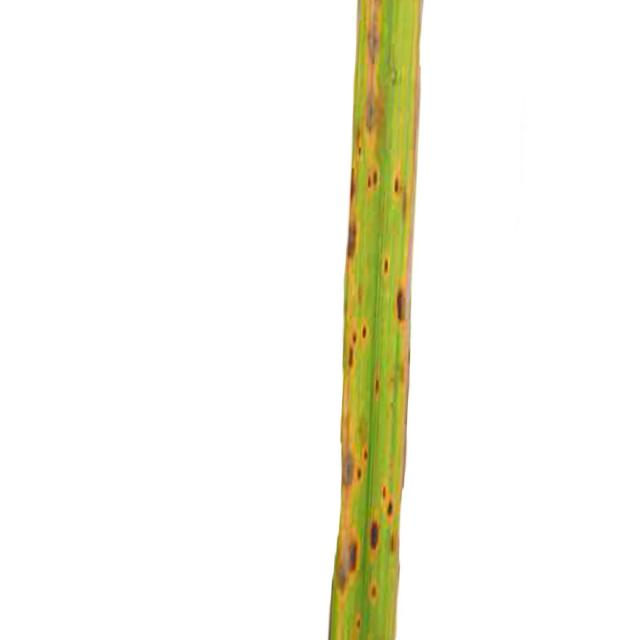Brown_Spot: (382, 485, 402, 528), (341, 444, 355, 485), (346, 221, 356, 259), (396, 289, 406, 320), (351, 612, 362, 639), (335, 568, 348, 589), (344, 345, 355, 368), (370, 521, 379, 549), (368, 580, 379, 601), (350, 542, 358, 569), (368, 170, 378, 190), (372, 379, 380, 401), (360, 444, 369, 462), (354, 466, 362, 482), (394, 178, 400, 192), (384, 258, 389, 274), (362, 325, 368, 338)
